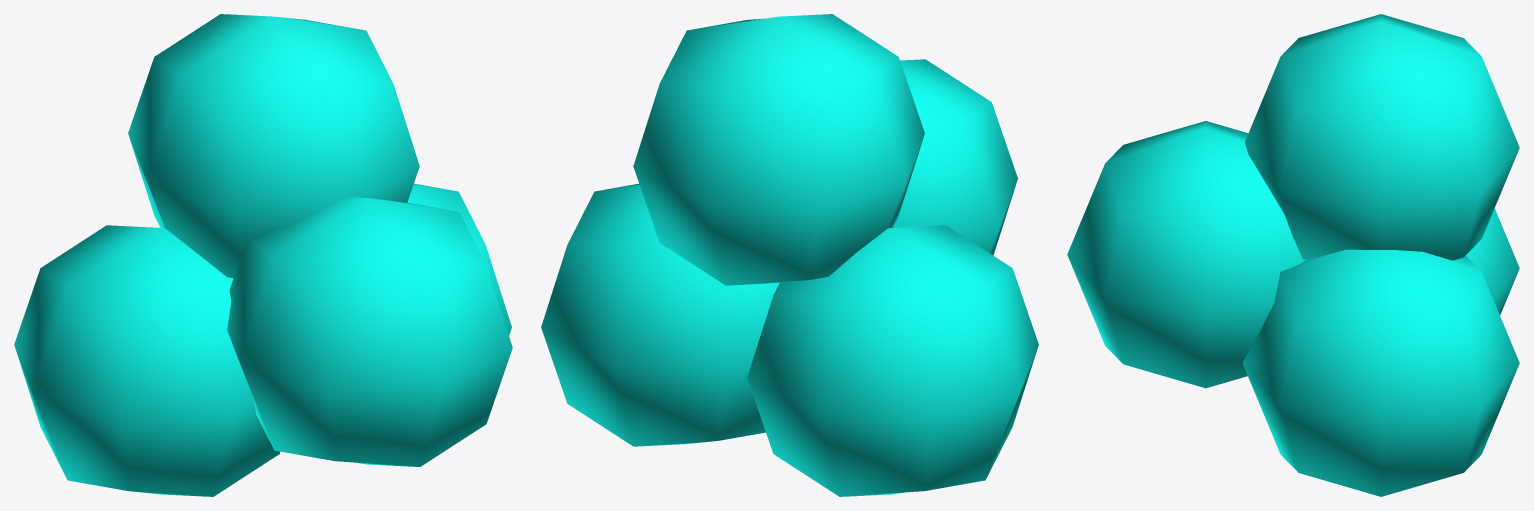
Rendered from SM_FrontShrapnel.fbx.
3 views of the same model, side by side, from view 1: azimuth 30°, elevation 25°; view 2: azimuth 150°, elevation 25°; view 3: azimuth 270°, elevation 25° (orthographic). The views are drawn at different scales.
Parts seen in each view (by area): view 1: FrontShrapnel; view 2: FrontShrapnel; view 3: FrontShrapnel.
Boxes of the visible parts, x1,y1,x2,y2 form: FrontShrapnel: (14,14,512,496); FrontShrapnel: (541,14,1038,496); FrontShrapnel: (1067,14,1519,496).
Size of the model in its own units: 1.21 by 1.13 by 1.09.
Materials: 1 (1 with a texture image).
